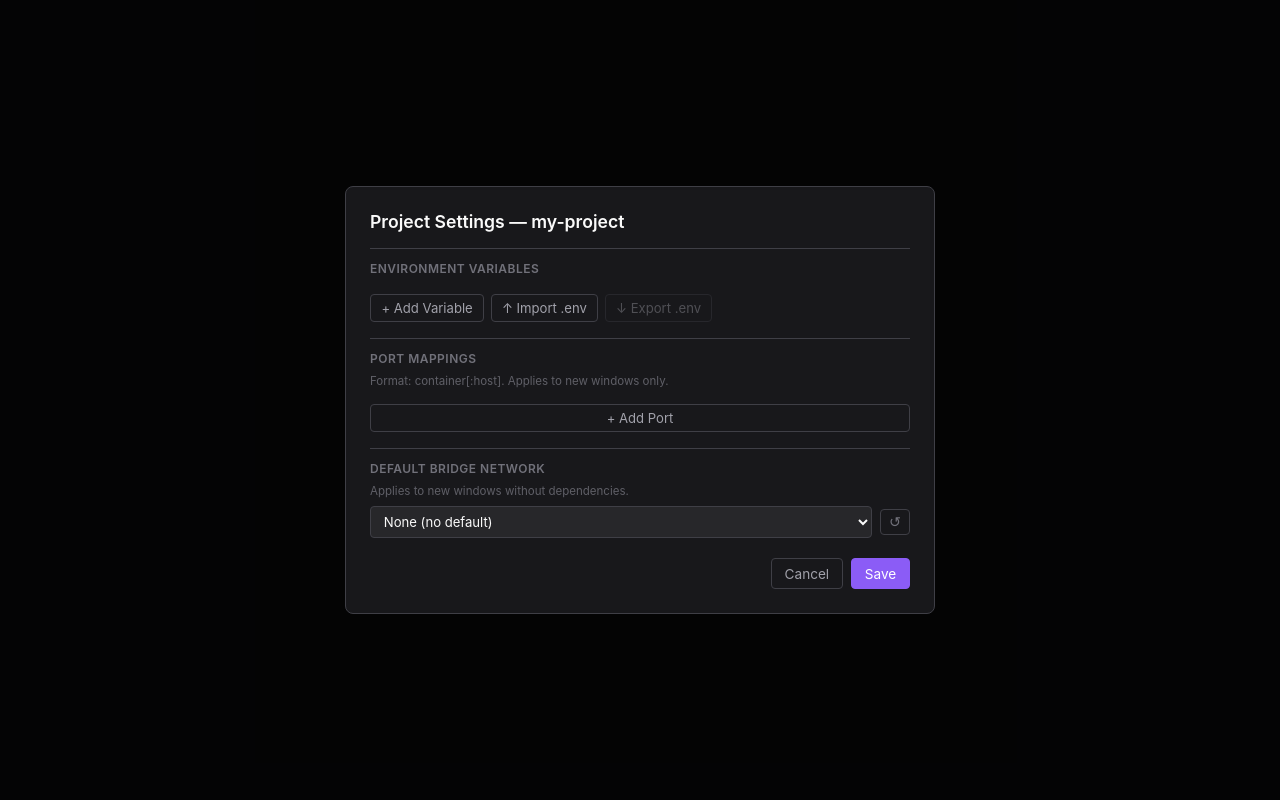
it: ProjectSettingsView › shows error on invalid port value and does not save
The image size is (1280, 800).
Click the button "+ Add Port": click(640, 418) [370, 404, 910, 432]
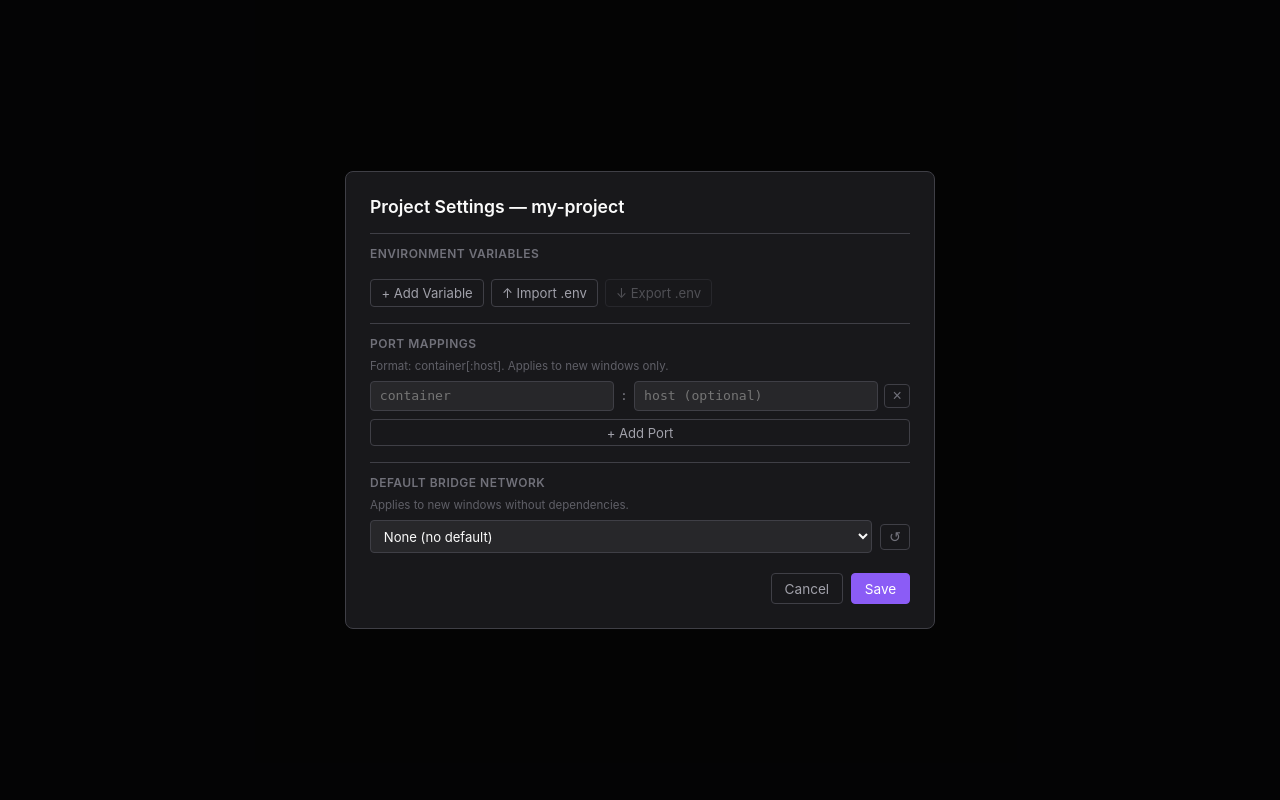
In the field with placeholder "container": (492, 396) [370, 381, 614, 411], type "abc"
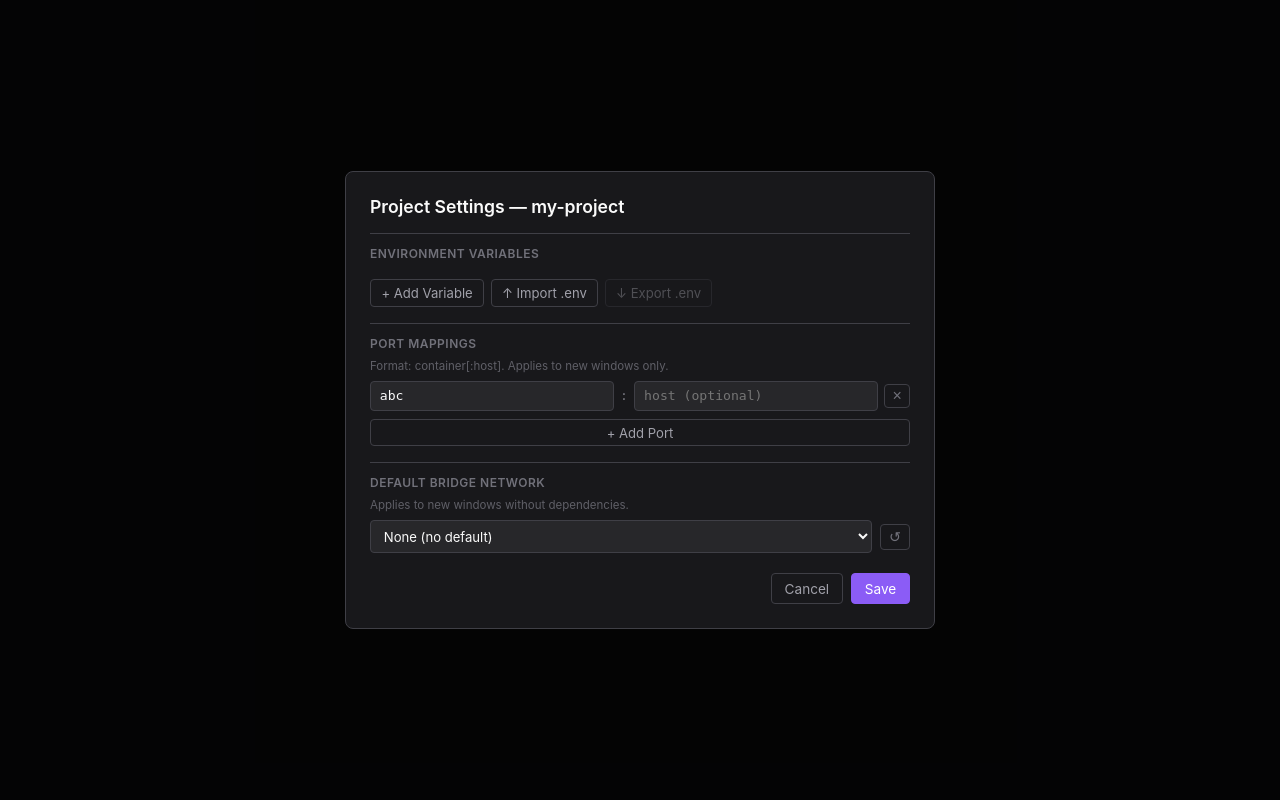
Click the button "Save": click(880, 589) [851, 573, 910, 604]
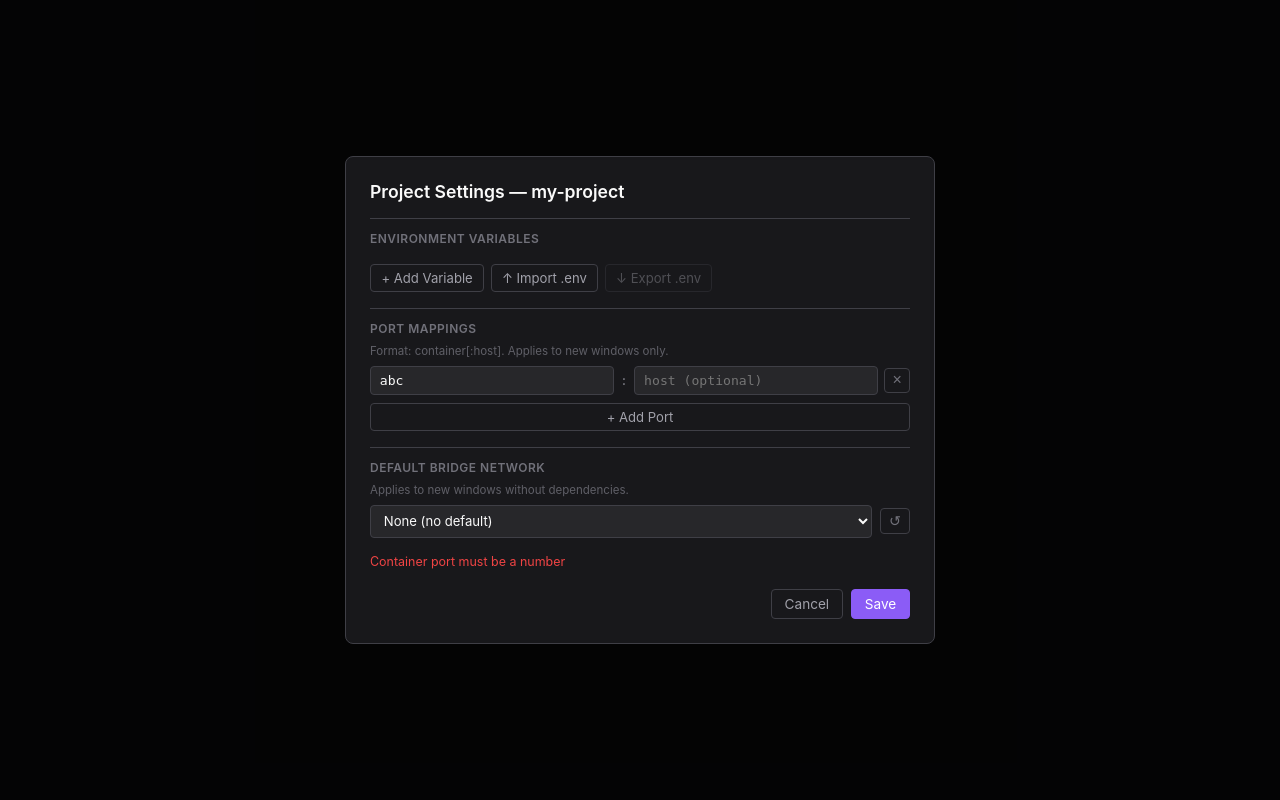
Result: the text "Container port must be a number" is shown at [370, 554, 565, 569]
